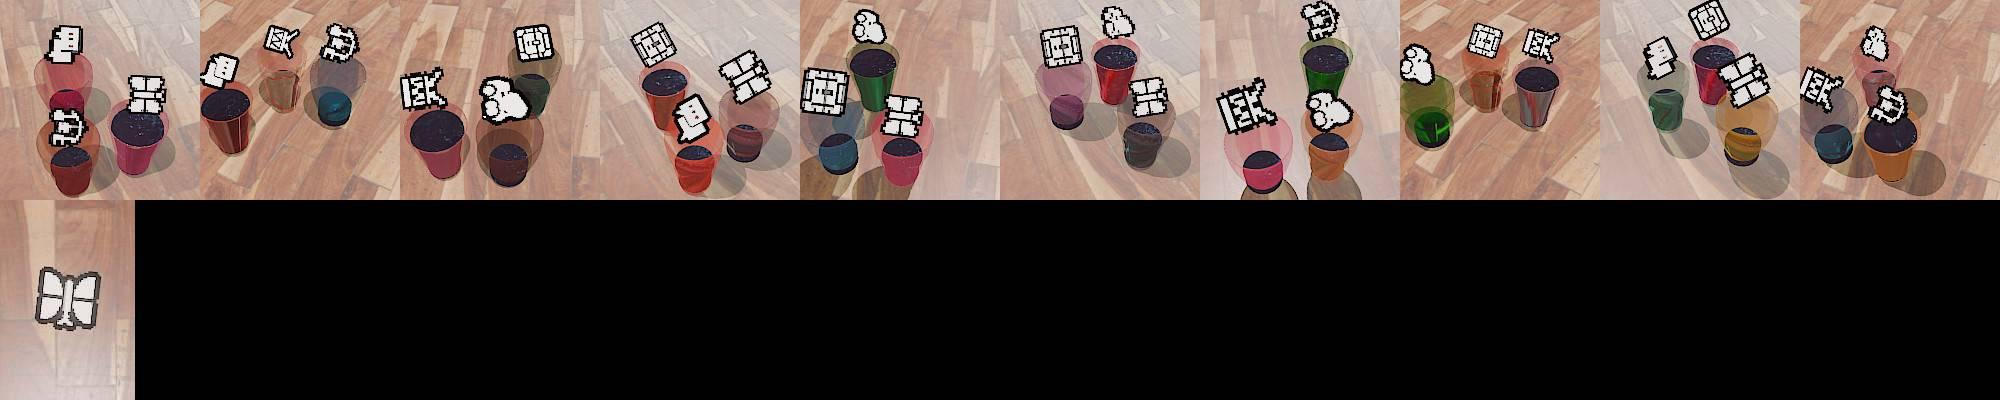icon: (33, 265, 105, 331), (1216, 76, 1276, 135), (1717, 51, 1772, 111), (717, 50, 773, 103), (798, 65, 849, 117), (478, 75, 531, 125), (630, 20, 677, 68), (1798, 65, 1844, 113), (878, 93, 923, 141), (399, 66, 446, 112), (1038, 24, 1084, 70), (673, 92, 713, 144), (1128, 74, 1172, 120), (1305, 89, 1353, 131), (318, 22, 360, 64), (1300, 0, 1341, 42), (126, 74, 167, 116), (1687, 0, 1730, 41), (513, 23, 555, 62), (1643, 34, 1679, 80), (48, 107, 88, 148), (1466, 22, 1505, 61), (200, 51, 240, 90), (46, 23, 83, 65), (1520, 25, 1561, 62), (1869, 85, 1907, 124), (1399, 43, 1434, 85), (851, 8, 888, 46), (263, 23, 298, 60), (1099, 4, 1135, 39), (1860, 25, 1890, 62)
